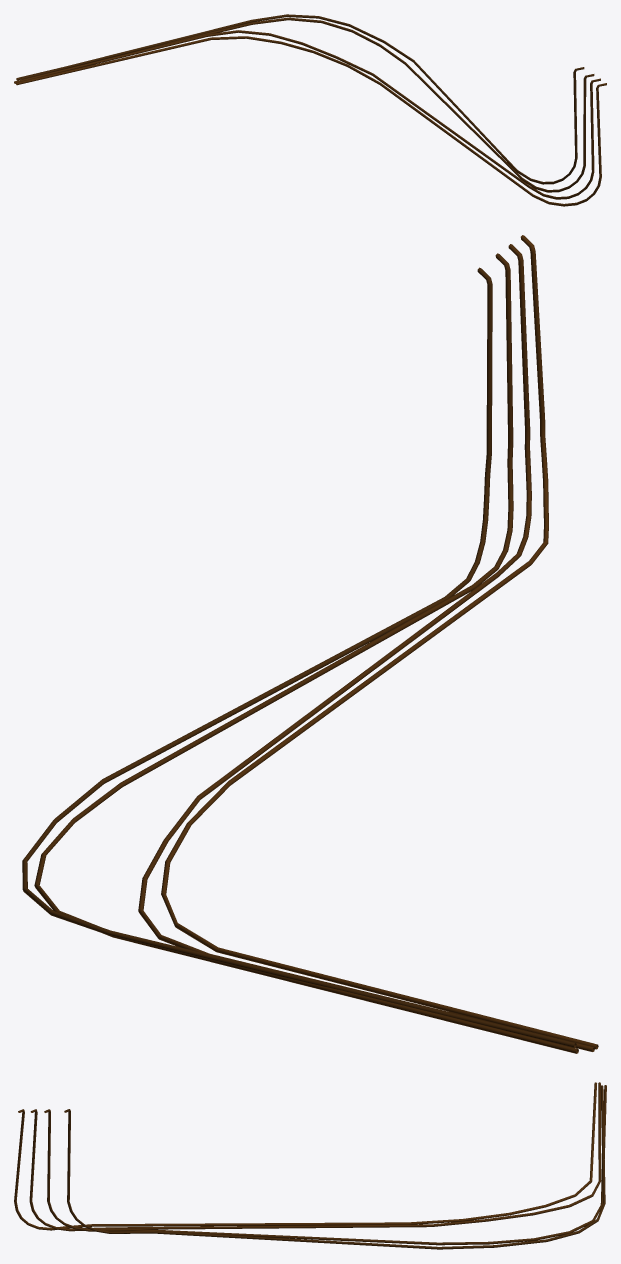
The model's file is cables_puzzle3.fbx.
3 renders of one model, top to bottom at view 1: azimuth 30°, elevation 25°; view 2: azimuth 150°, elevation 25°; view 3: azimuth 270°, elevation 25°, orthographic. The views are drawn at different scales.
Visible parts, largest first — view 1: cables_puzzle3; view 2: cables_puzzle3; view 3: cables_puzzle3.
Part boxes in pixels (x1=…): cables_puzzle3: x1=14, y1=14, x2=606, y2=206; cables_puzzle3: x1=22, y1=235, x2=598, y2=1053; cables_puzzle3: x1=14, y1=1082, x2=606, y2=1249.
Size of the model in its own units: 281 by 108 by 429.
